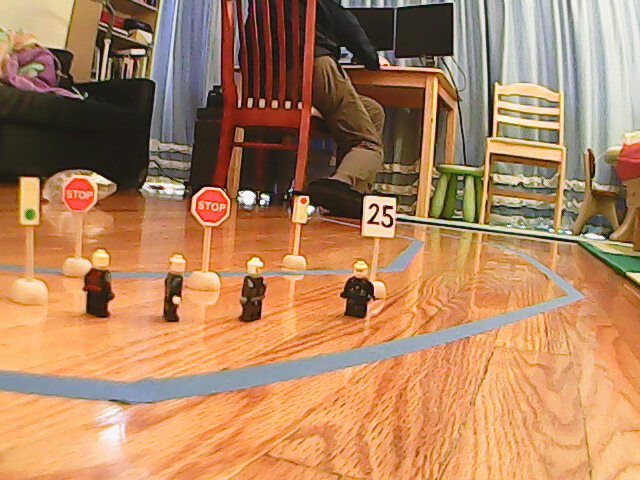Green Traffic Light: (20, 175, 42, 230)
Person: (81, 249, 118, 319), (341, 259, 373, 320), (240, 258, 269, 324), (162, 255, 188, 322)
Red Traffic Light: (288, 191, 312, 225)
Speed Limit 25: (360, 195, 396, 240)
Stop Sign: (192, 186, 232, 226), (62, 176, 98, 212)
